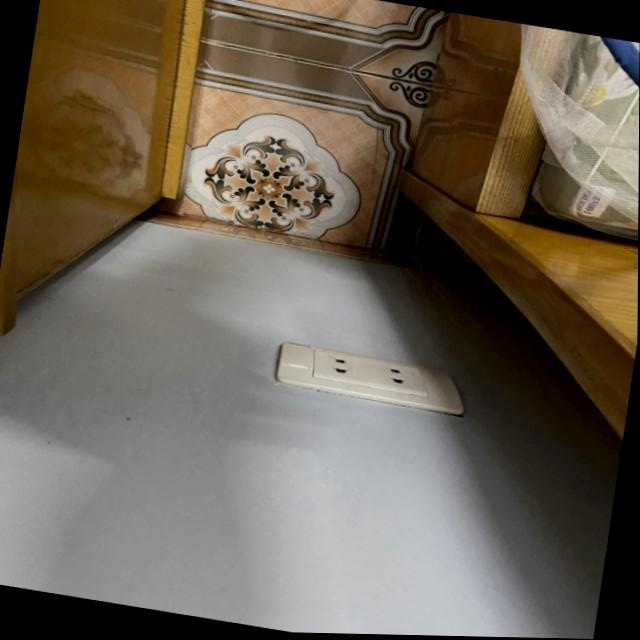outlet: (273, 340, 471, 416)
